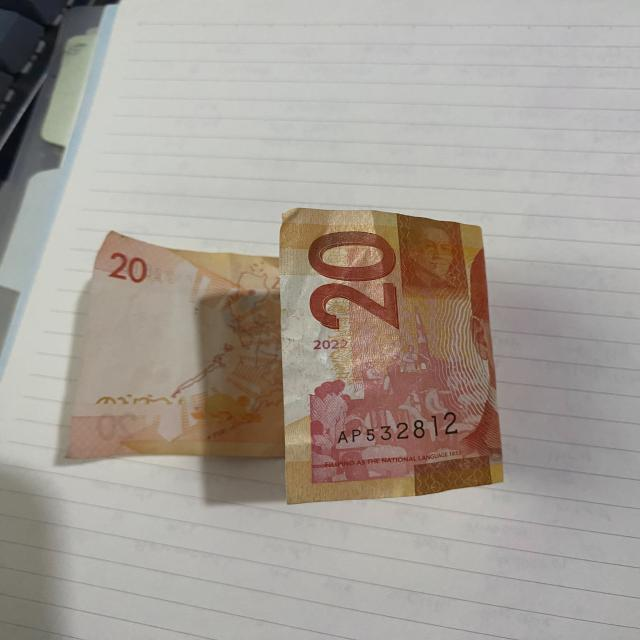concealed_value: (398, 214, 463, 302)
serial_number: (338, 406, 464, 458)
value: (310, 226, 411, 330)
